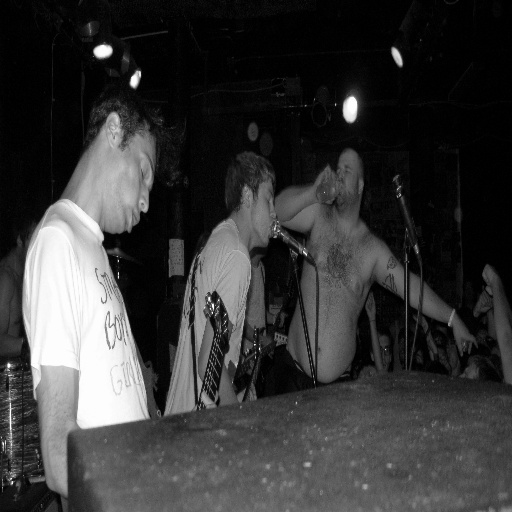hand: (310, 162, 339, 208), (452, 315, 480, 360), (481, 258, 503, 299), (236, 379, 258, 409), (475, 289, 494, 316), (243, 351, 258, 377), (364, 289, 375, 321), (262, 334, 277, 357), (427, 334, 439, 358), (411, 313, 428, 329), (273, 309, 286, 327)
